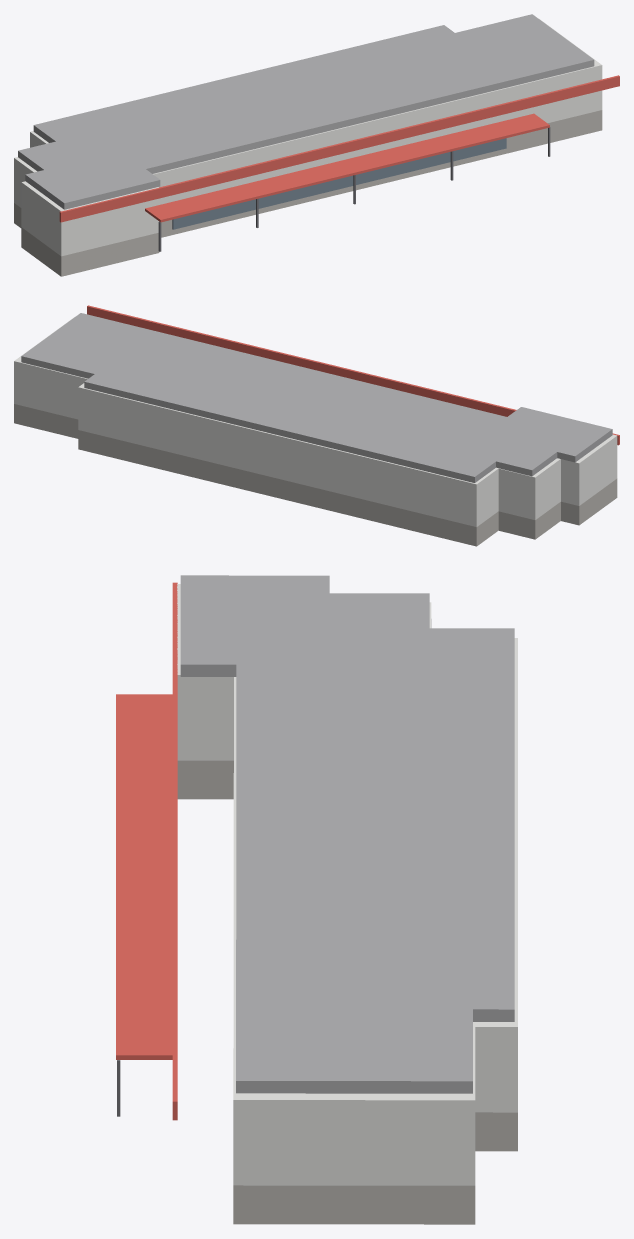
File: kandern-penny.glb
3 renders of one model, top to bottom at view 1: azimuth 30°, elevation 25°; view 2: azimuth 150°, elevation 25°; view 3: azimuth 270°, elevation 25°, orthographic. The views are drawn at different scales.
Parts seen in each view (by area): view 1: building; view 2: building; view 3: building.
Boxes of the visible parts, x1=… form: building: x1=14, y1=14, x2=619, y2=276; building: x1=14, y1=305, x2=619, y2=546; building: x1=116, y1=575, x2=517, y2=1224.
Bounding box in the file's own units: 71.65 × 8.8 × 23.45.
